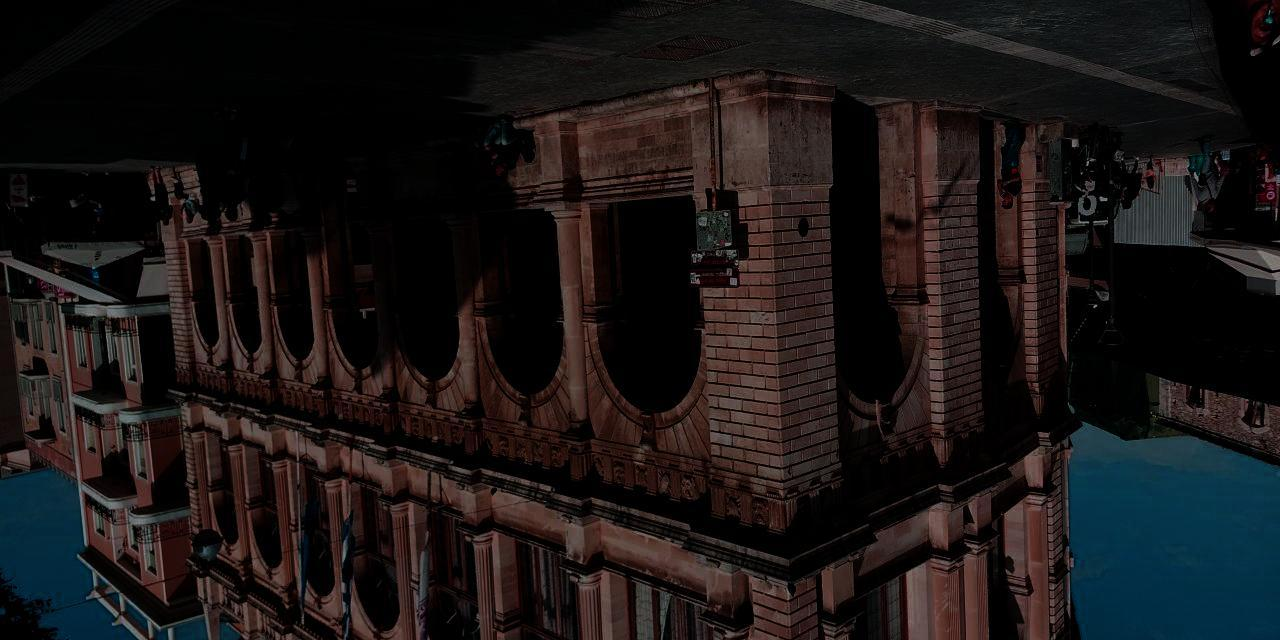Loggia: (146, 77, 1088, 640)
